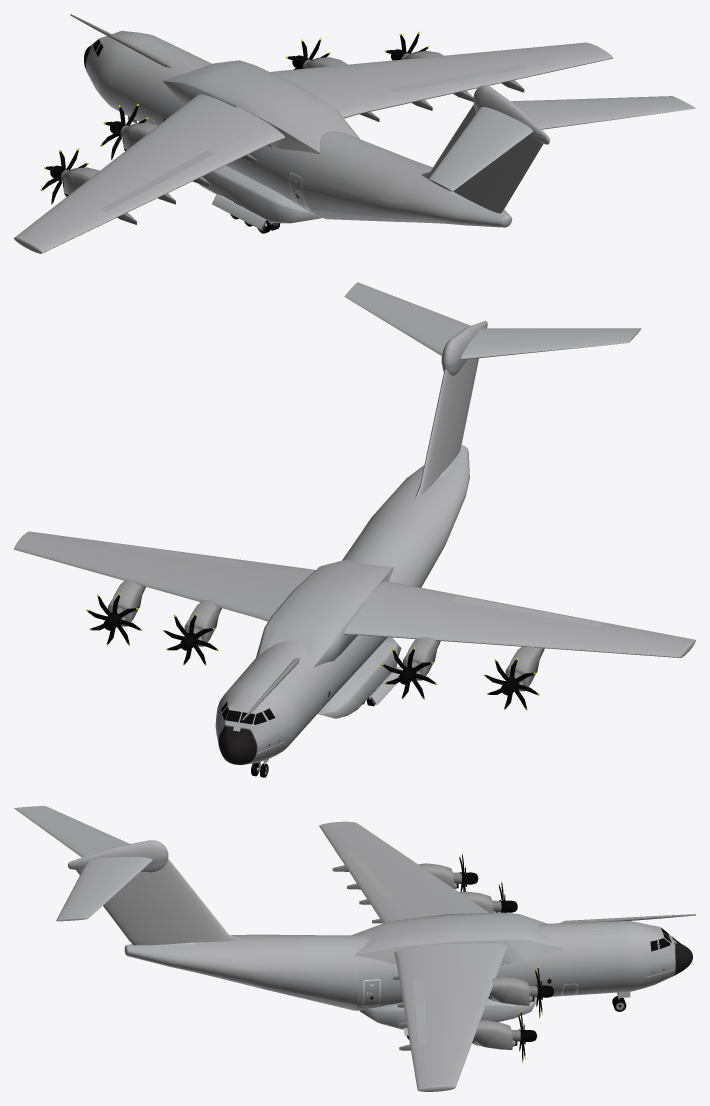
File: okoc130a400p12.glb
3 views of the same model, one above another, from view 1: azimuth 30°, elevation 25°; view 2: azimuth 150°, elevation 25°; view 3: azimuth 270°, elevation 25° (orthographic). The views are drawn at different scales.
Visible parts, largest first — view 1: Cylinder.005; view 2: Cylinder.005; view 3: Cylinder.005.
Part boxes in pixels (left/top/right/bottom): Cylinder.005: left=14, top=14, right=695, bottom=253; Cylinder.005: left=14, top=282, right=695, bottom=777; Cylinder.005: left=14, top=806, right=695, bottom=1091.
Bounding box in the file's own units: 43.17 × 15.17 × 46.68.
Materials: 49 (10 with a texture image).
